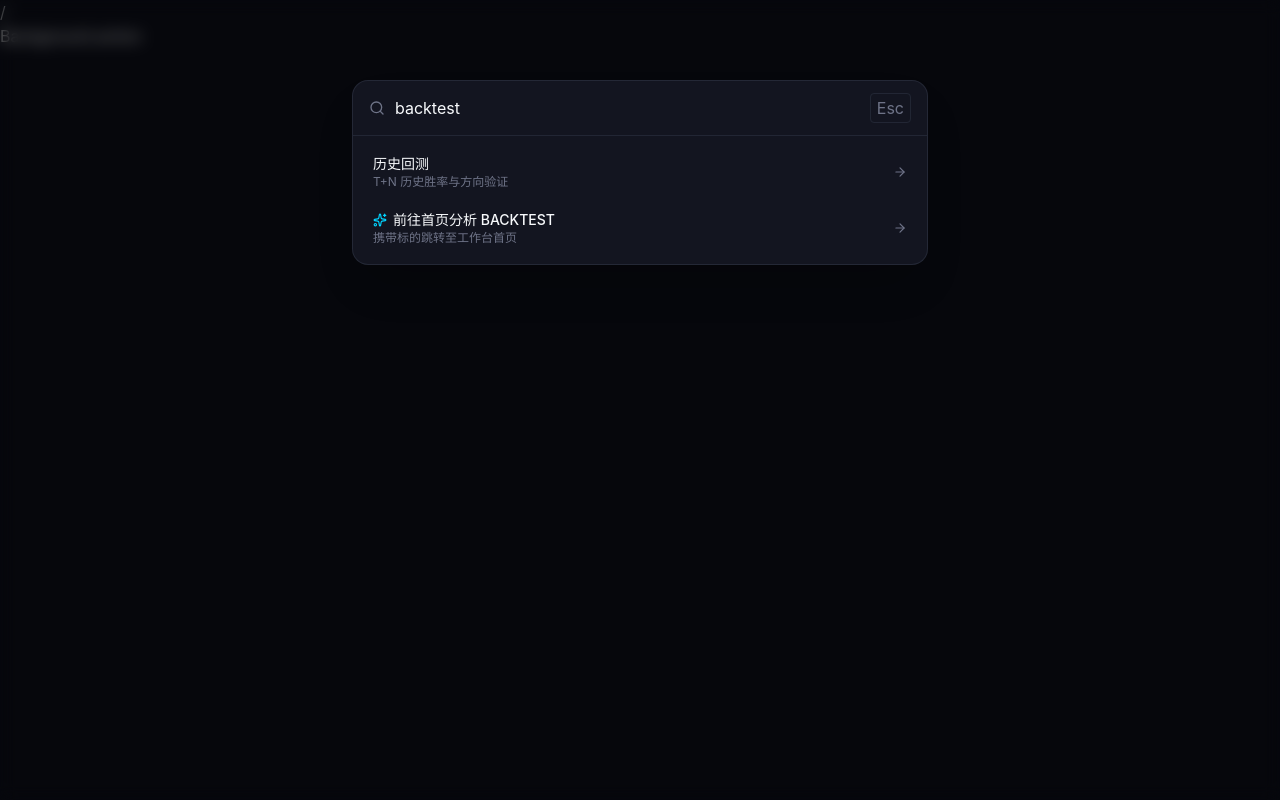
Scenario: CommandPalette › opens on Ctrl/Cmd+K, filters commands, jumps to route on Enter, and offers direct ticker shortcut
Earlier steps of the test are not shown.
Press Enter in the field, box [395,96,860,120]
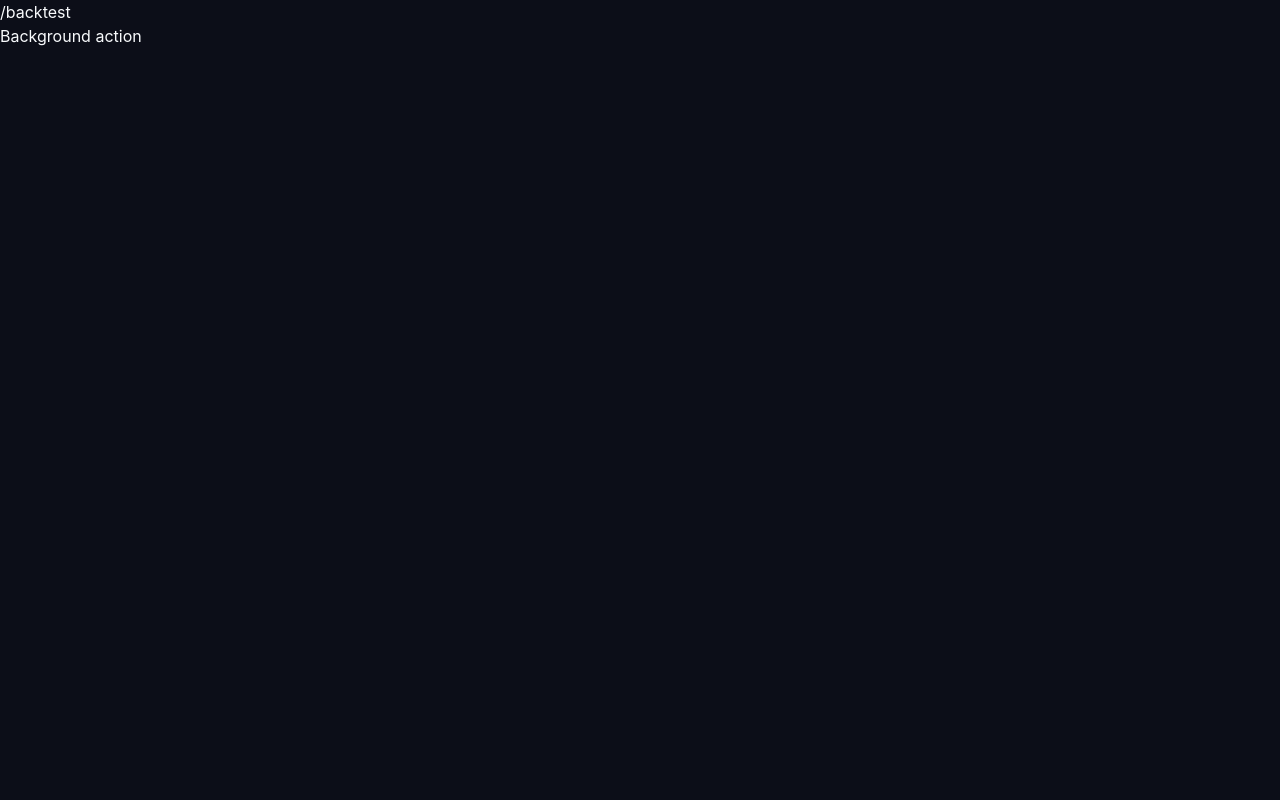
Expected: the dialog is gone
Expected: the text with test id "current-route" reads "/backtest", [0,2,71,22]
# Re-open with Cmd+K and jump to a ticker
Press k
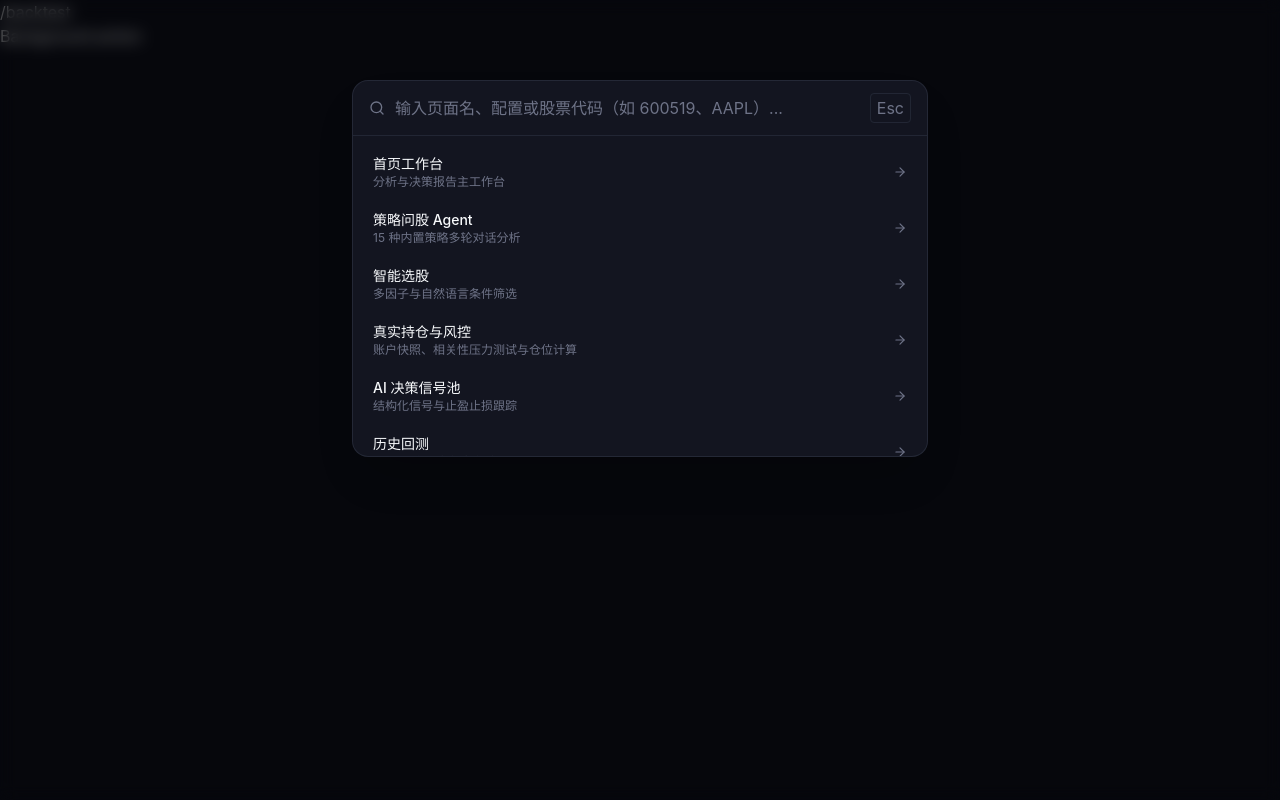
Type "600519" into the field at x=627, y=108, box [395,96,860,120]
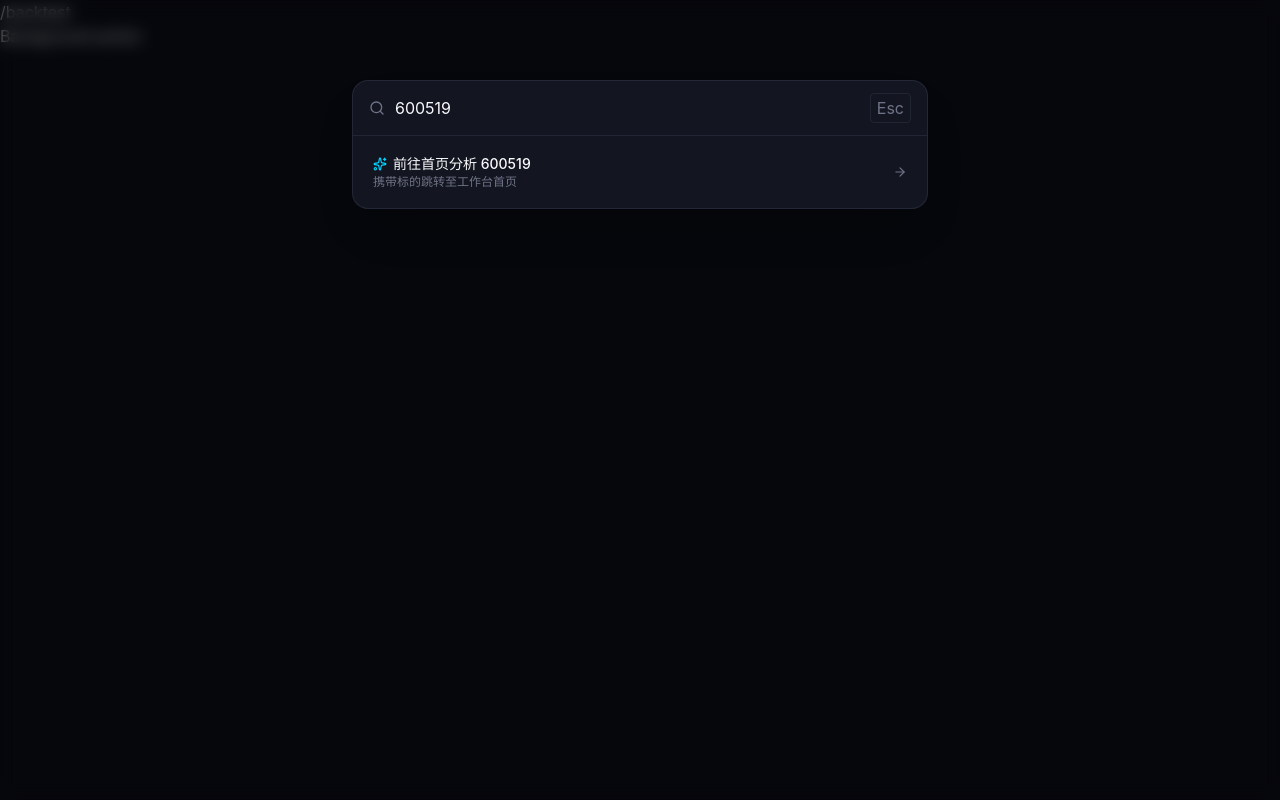
Expected: the text "前往首页分析 600519" is shown, [393,154,531,174]
Press Enter in the field, box [395,96,860,120]
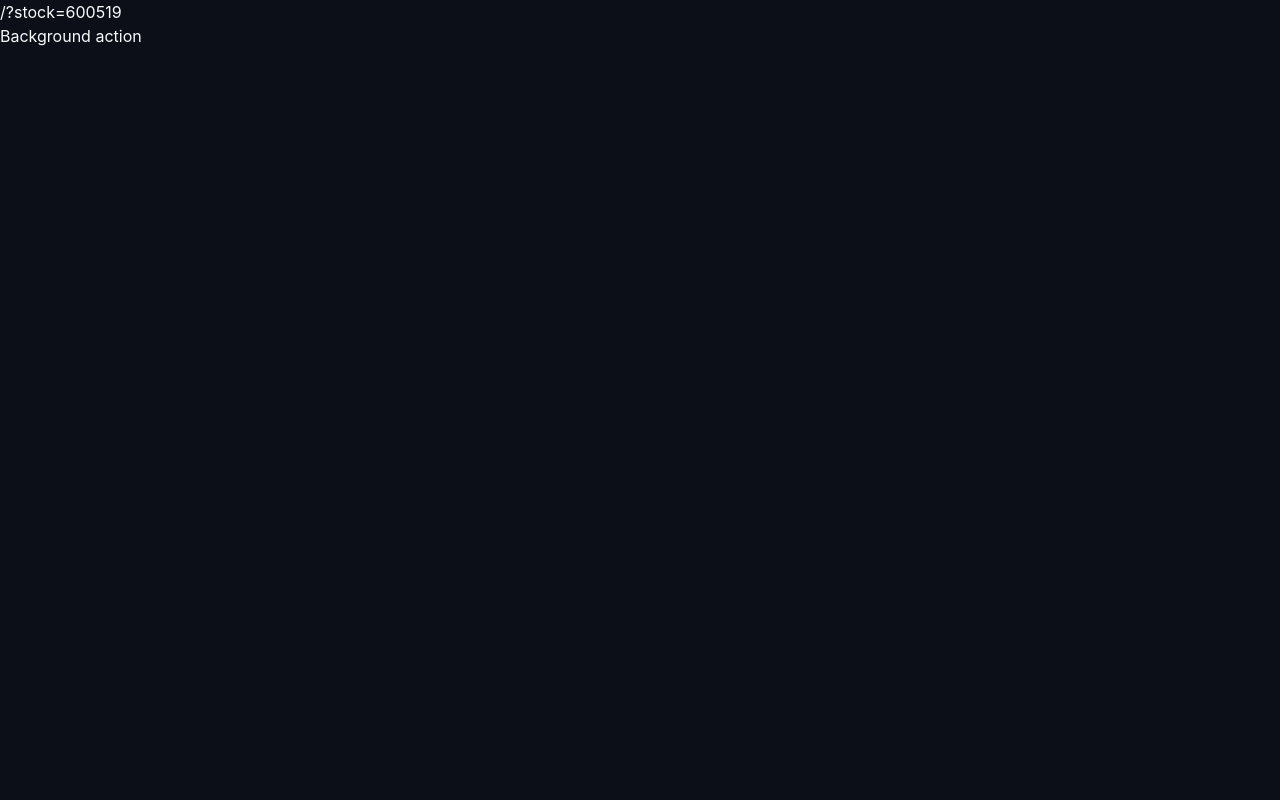
Expected: the text with test id "current-route" reads "/?stock=600519", [0,2,122,22]
# Escape closes when open
Press k
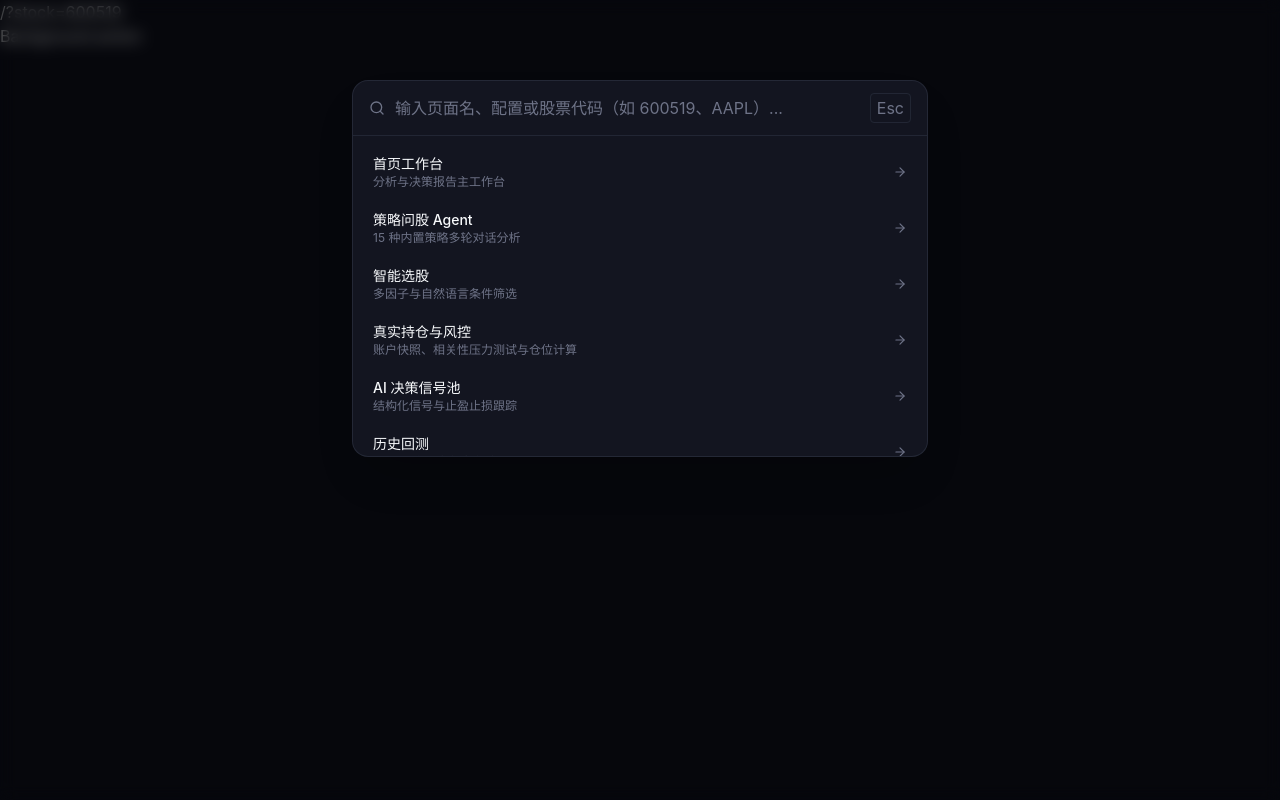
Expected: the dialog is shown
Press Escape
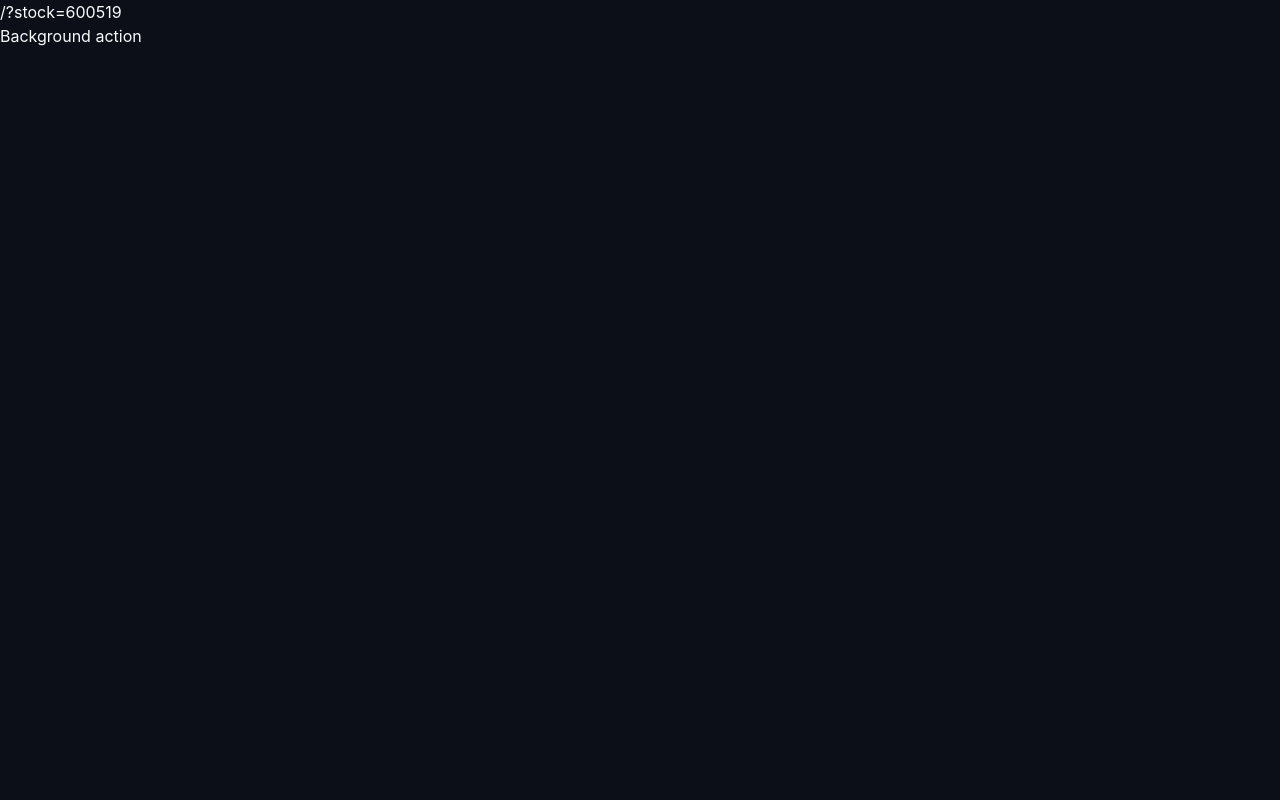
Expected: the dialog is gone
